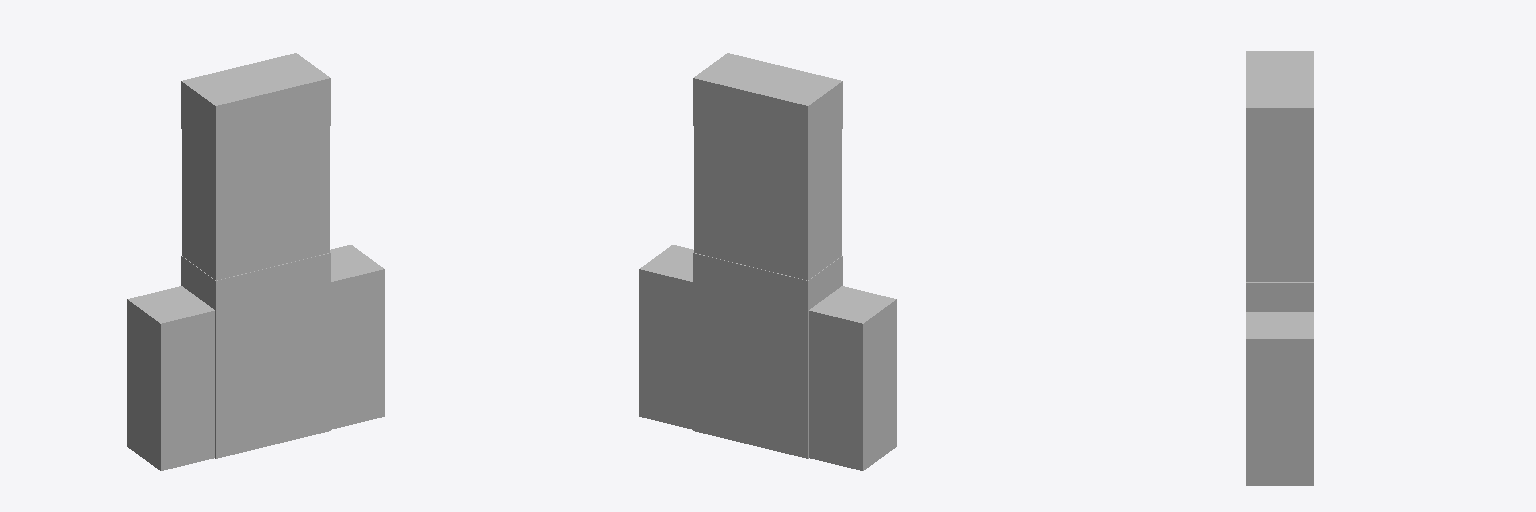
File: uniform.obj
3 views of the same model, side by side, from view 1: azimuth 30°, elevation 25°; view 2: azimuth 150°, elevation 25°; view 3: azimuth 270°, elevation 25° (orthographic).
Visible parts, largest first — view 1: bodyModel, rightArmModel, rightLegModel, leftArmModel, leftLegModel, rightFootModel, leftFootModel; view 2: bodyModel, rightArmModel, rightLegModel, leftArmModel, leftLegModel, rightFootModel, leftFootModel; view 3: leftArmModel, leftLegModel, leftFootModel, bodyModel, rightFootModel.
Part boxes in pixels (x1,y1,x2,y2): bodyModel: (181,253,330,458); rightArmModel: (127,286,214,470); rightLegModel: (182,130,273,280); leftArmModel: (330,245,384,429); leftLegModel: (271,126,329,266); rightFootModel: (181,67,274,153); leftFootModel: (237,53,330,139); bodyModel: (693,253,842,458); rightArmModel: (809,286,896,470); rightLegModel: (753,130,841,280); leftArmModel: (639,245,693,429); leftLegModel: (694,126,752,266); rightFootModel: (749,67,842,153); leftFootModel: (693,53,786,139); leftArmModel: (1246,312,1313,485); leftLegModel: (1246,156,1313,281); leftFootModel: (1246,81,1313,155); bodyModel: (1246,282,1313,311); rightFootModel: (1246,51,1313,80).
Bounding box in the file's own units: 16.2 × 24.39 × 4.32.